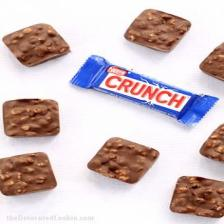brown: (88, 139, 159, 184), (124, 9, 192, 52), (3, 23, 70, 65), (1, 152, 57, 196), (3, 99, 60, 137), (172, 177, 224, 217), (200, 124, 224, 162), (200, 43, 224, 80), (178, 112, 206, 122)
